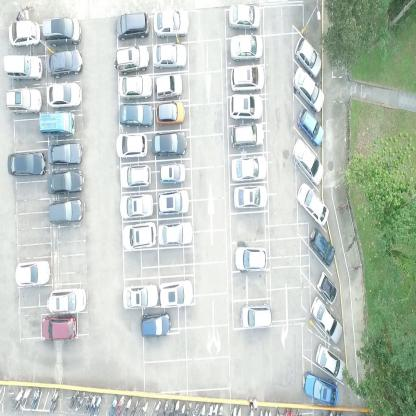car: (311, 294, 343, 345), (292, 138, 324, 186), (292, 66, 324, 114), (297, 182, 329, 226), (302, 369, 338, 406), (314, 341, 346, 381), (41, 16, 82, 46), (294, 36, 322, 78), (152, 8, 189, 38), (14, 257, 51, 287), (112, 46, 150, 75), (309, 224, 335, 266), (47, 49, 83, 79), (7, 150, 46, 177), (115, 11, 150, 41), (298, 106, 324, 146), (3, 55, 43, 81), (6, 87, 43, 115), (229, 32, 263, 62), (228, 92, 263, 121), (45, 289, 87, 313), (46, 81, 82, 109), (39, 110, 75, 138), (150, 130, 187, 157), (158, 280, 194, 307), (47, 169, 84, 195), (228, 2, 260, 32), (240, 301, 273, 330), (230, 64, 264, 92), (152, 42, 187, 69), (230, 157, 267, 182), (234, 244, 268, 271), (41, 315, 77, 340), (118, 193, 154, 218), (117, 102, 153, 127), (140, 310, 172, 338), (8, 20, 41, 47), (122, 224, 156, 250), (122, 283, 158, 307), (48, 200, 84, 224), (231, 122, 264, 148), (157, 188, 190, 214), (114, 132, 148, 157), (118, 74, 152, 99), (47, 141, 82, 165), (154, 100, 186, 126), (158, 223, 194, 246), (233, 185, 268, 208), (119, 164, 152, 188), (154, 73, 182, 100), (317, 270, 338, 304), (158, 160, 186, 183)
